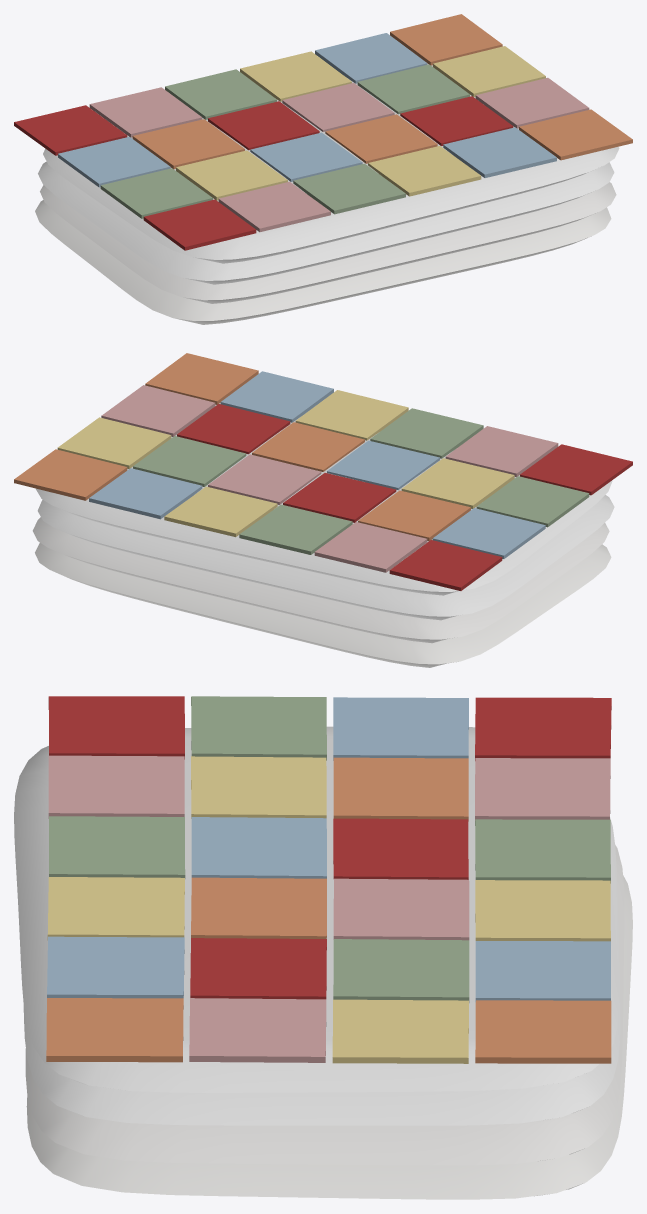
Rendered from blanket.glb.
3 renders of one model, top to bottom at view 1: azimuth 30°, elevation 25°; view 2: azimuth 150°, elevation 25°; view 3: azimuth 270°, elevation 25°, orthographic. The views are drawn at different scales.
Visible parts, largest first — view 1: patch, fabric; view 2: patch, fabric; view 3: patch, fabric.
Part boxes in pixels (x1,y1,x2,y2): patch: (14,14,632,250); fabric: (35,63,619,324); patch: (14,353,632,590); fabric: (32,403,614,667); patch: (46,696,611,1063); fabric: (14,726,632,1199).
Size of the model in its own units: 0.5247 by 0.1097 by 0.3728.
